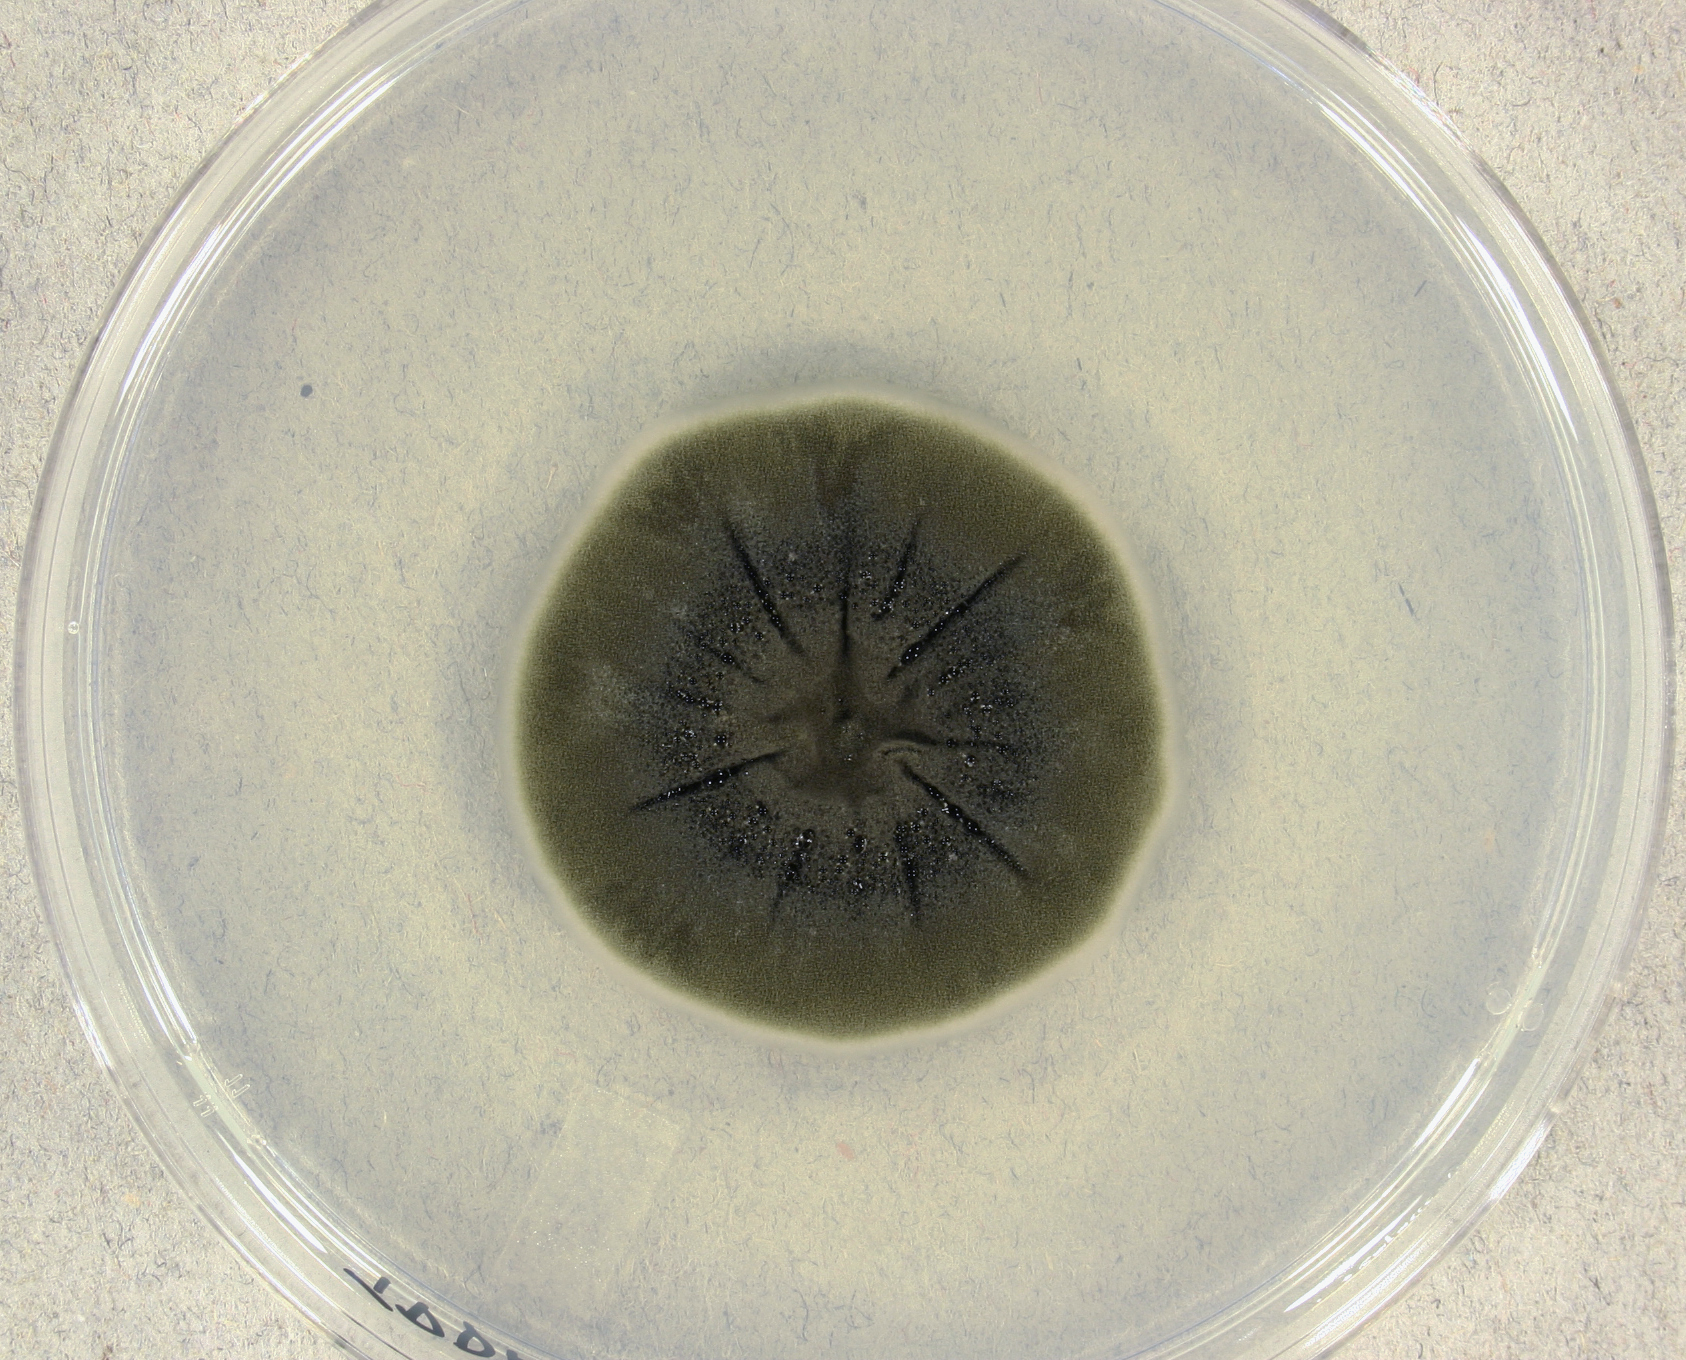Cladosporium: (523, 450, 1127, 960)
